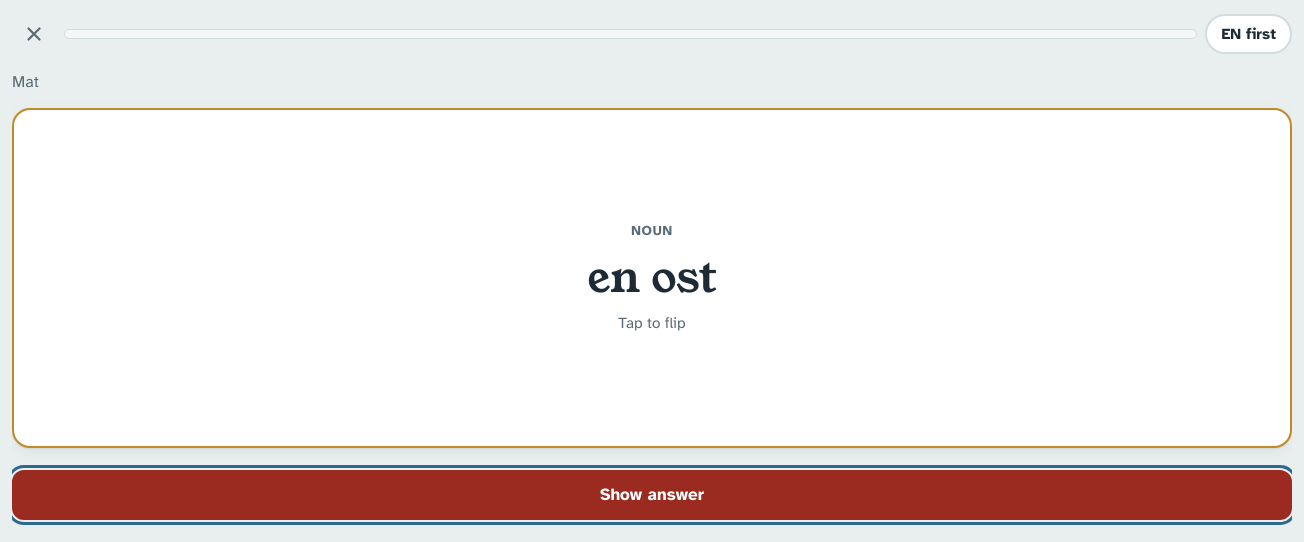
Scenario: Flashcards screen › flips a card to show the English, forms and example, then rates it
Click the button "Show answer" at (652, 495), box [12, 470, 1292, 520]
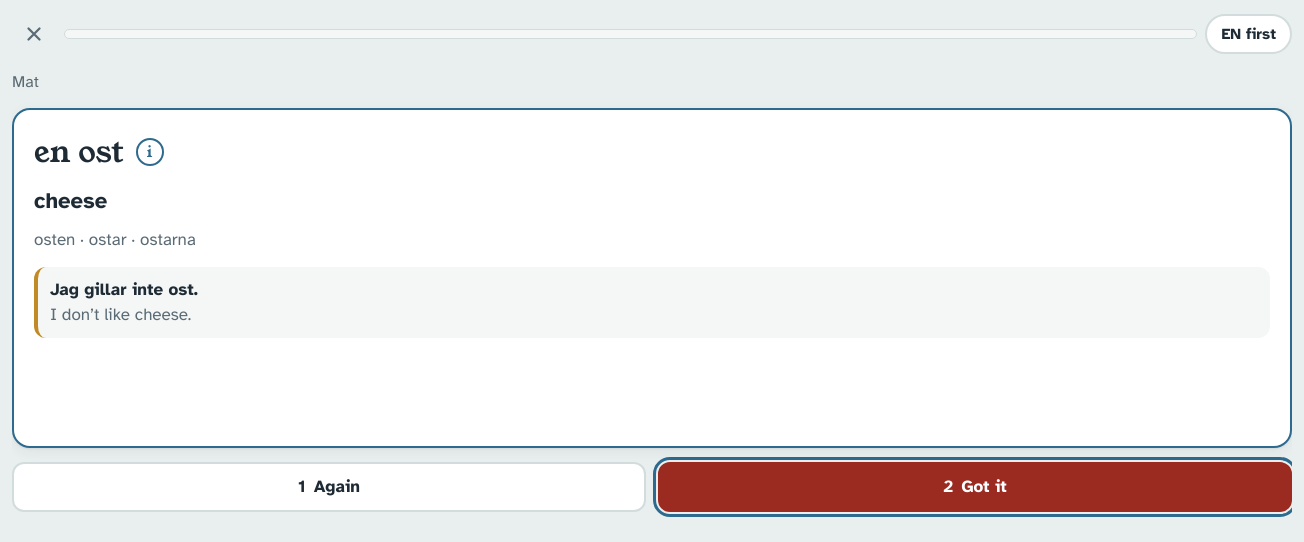
Expected: the text "cheese" is shown, [34, 187, 107, 214]
Expected: the text "osten · ostar · ostarna" is shown, [34, 229, 196, 250]
Click the button "2 Got it" at (975, 487), box [658, 462, 1292, 512]
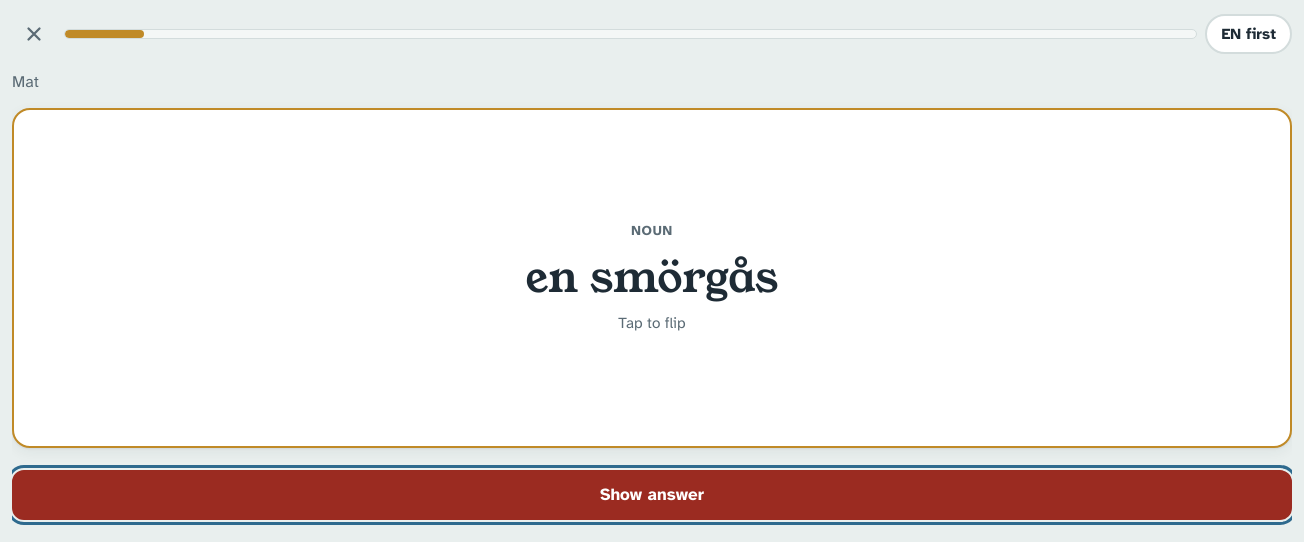
Expected: the button "Show answer" is shown, [12, 470, 1292, 520]
